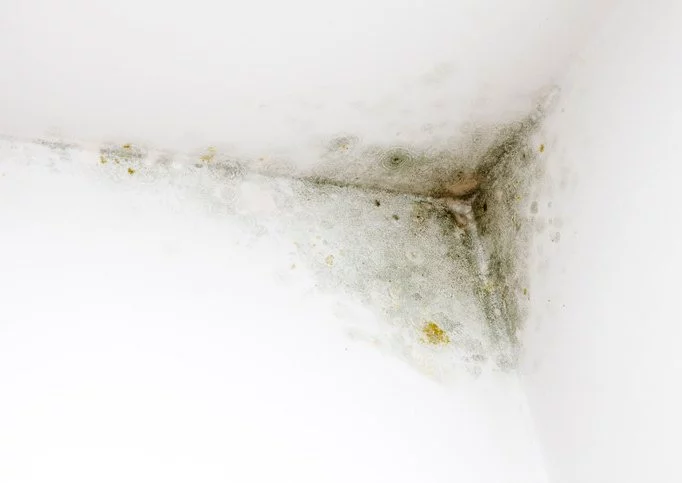schimmel: (481, 119, 519, 254), (433, 186, 470, 240), (417, 314, 459, 353), (385, 136, 422, 164), (369, 205, 407, 226)
